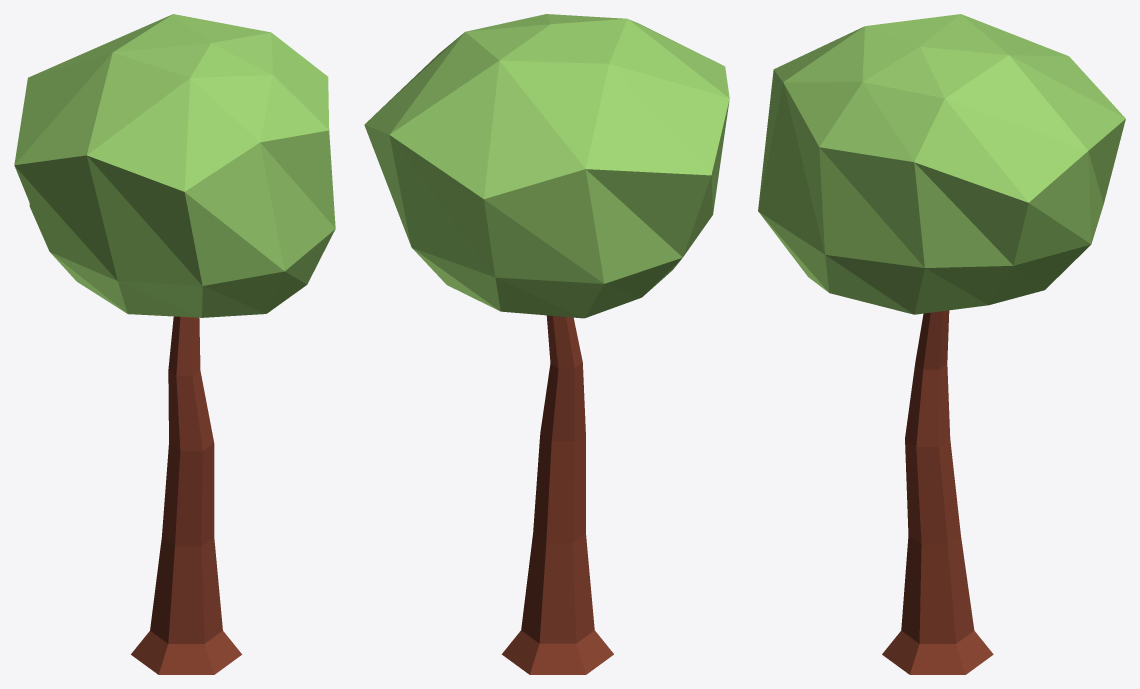
The model's file is AppleTree_Seedling.fbx.
3 renders of one model, left to right at view 1: azimuth 30°, elevation 25°; view 2: azimuth 150°, elevation 25°; view 3: azimuth 270°, elevation 25°, orthographic.
Parts seen in each view (by area): view 1: Cylinder; view 2: Cylinder; view 3: Cylinder.
Boxes of the visible parts, box(x1,y1,x2,y2) form: Cylinder: box(14, 14, 335, 674); Cylinder: box(364, 14, 729, 674); Cylinder: box(758, 14, 1125, 674).
Bounding box in the file's own units: 123 × 234 × 127.
